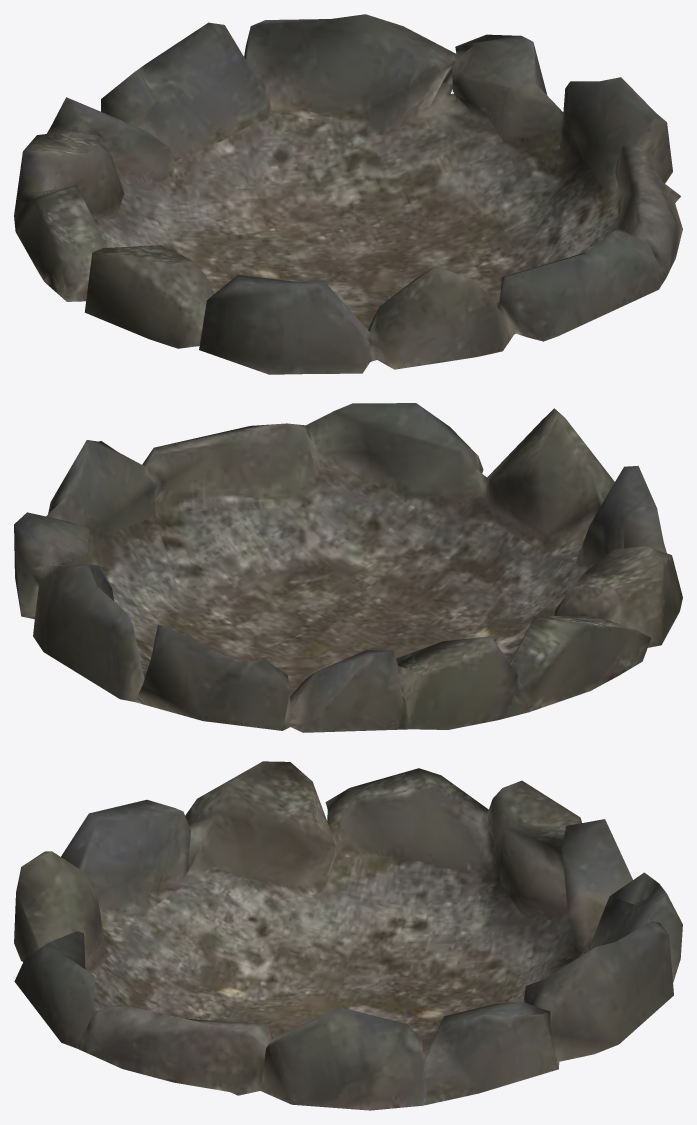
Rendered from stone_fire_pit.glb.
3 renders of one model, top to bottom at view 1: azimuth 30°, elevation 25°; view 2: azimuth 150°, elevation 25°; view 3: azimuth 270°, elevation 25°, orthographic.
Parts seen in each view (by area): view 1: stone_fire_pit; view 2: stone_fire_pit; view 3: stone_fire_pit.
Part boxes in pixels (x1,y1,x2,y2): stone_fire_pit: (14, 14, 682, 374); stone_fire_pit: (14, 403, 682, 732); stone_fire_pit: (14, 761, 682, 1110).
Bounding box in the file's own units: 1.44 × 0.3812 × 1.43.
Materials: 1 (1 with a texture image).
